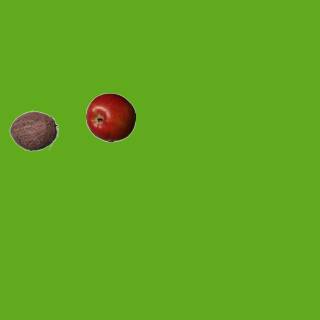Apple Braeburn: (85, 92, 135, 142)
Cocos: (8, 105, 58, 155)
